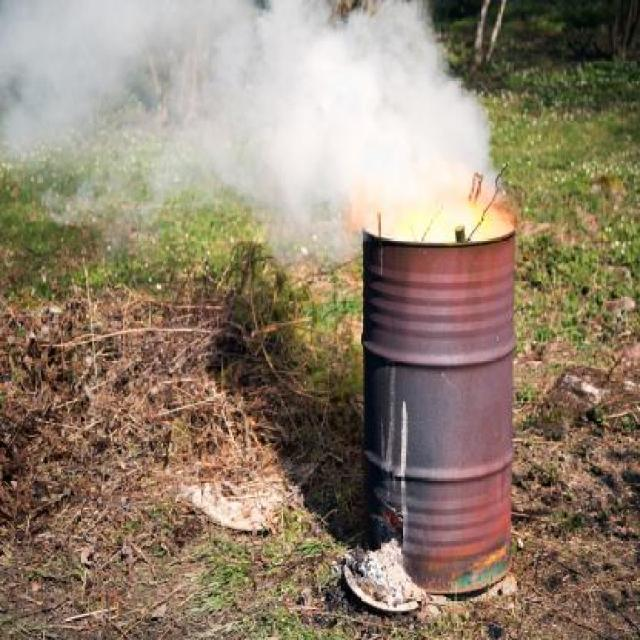Smoke: (0, 0, 495, 257)
